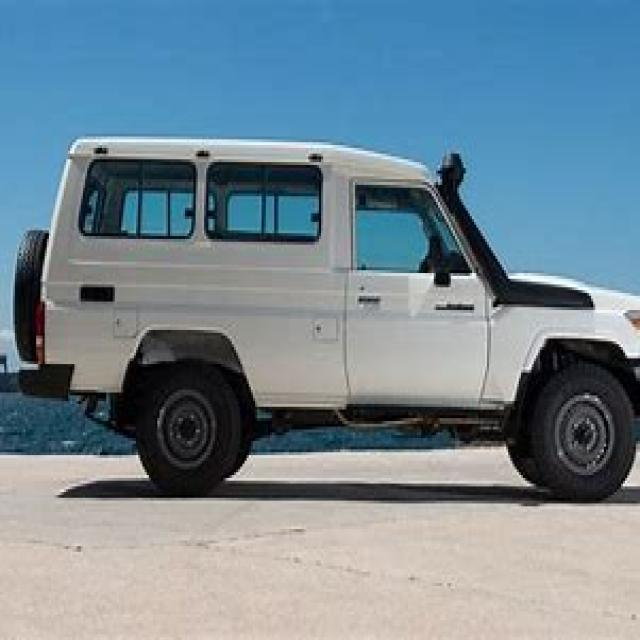light_vehicle: (13, 111, 638, 532)
